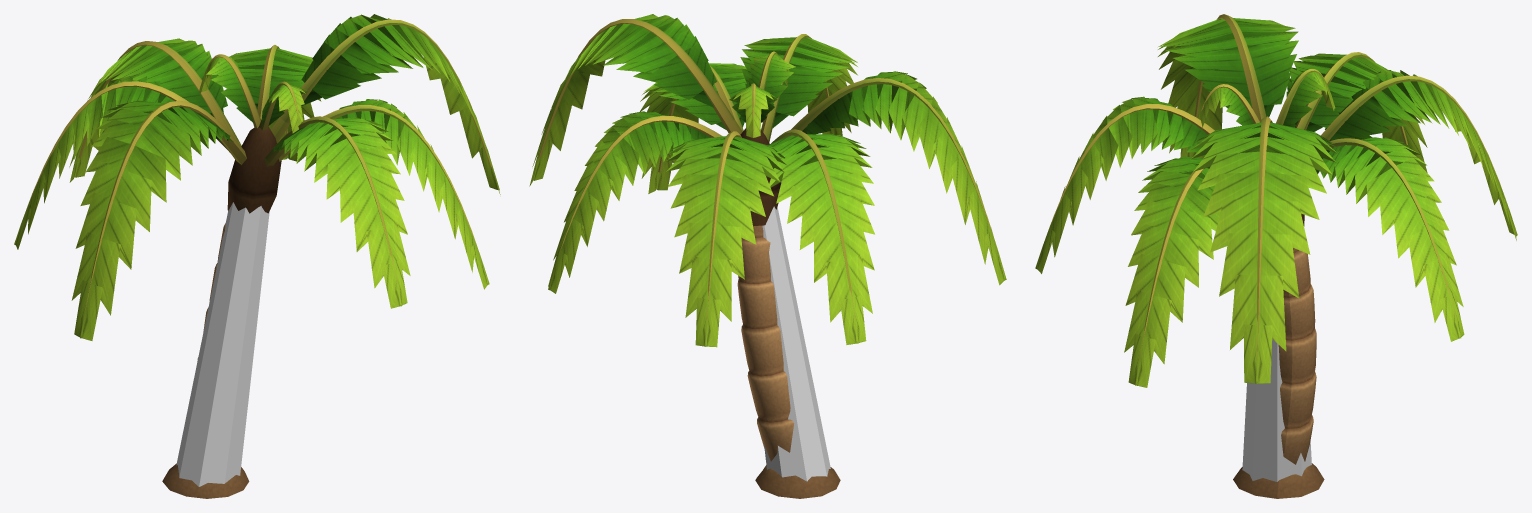
Rendered from IO_Palm_Young_A.glb.
The picture shows the model from 3 angles, left to right: view 1: azimuth 30°, elevation 25°; view 2: azimuth 150°, elevation 25°; view 3: azimuth 270°, elevation 25°; orthographic projection. The views are drawn at different scales.
Parts seen in each view (by area): view 1: IO_Palm_Young_A_LOD0, IO_Palm_Young_A_COL; view 2: IO_Palm_Young_A_LOD0, IO_Palm_Young_A_COL; view 3: IO_Palm_Young_A_LOD0, IO_Palm_Young_A_COL.
Part boxes in pixels (<box>): IO_Palm_Young_A_LOD0: <box>14,14,500,498</box>; IO_Palm_Young_A_COL: <box>176,202,269,486</box>; IO_Palm_Young_A_LOD0: <box>529,14,1006,498</box>; IO_Palm_Young_A_COL: <box>762,206,830,481</box>; IO_Palm_Young_A_LOD0: <box>1035,14,1517,498</box>; IO_Palm_Young_A_COL: <box>1242,339,1311,481</box>.
Size of what is drawn, in the model's own units: 2.91 by 2.6 by 2.57.
2 materials, 2 textured.
